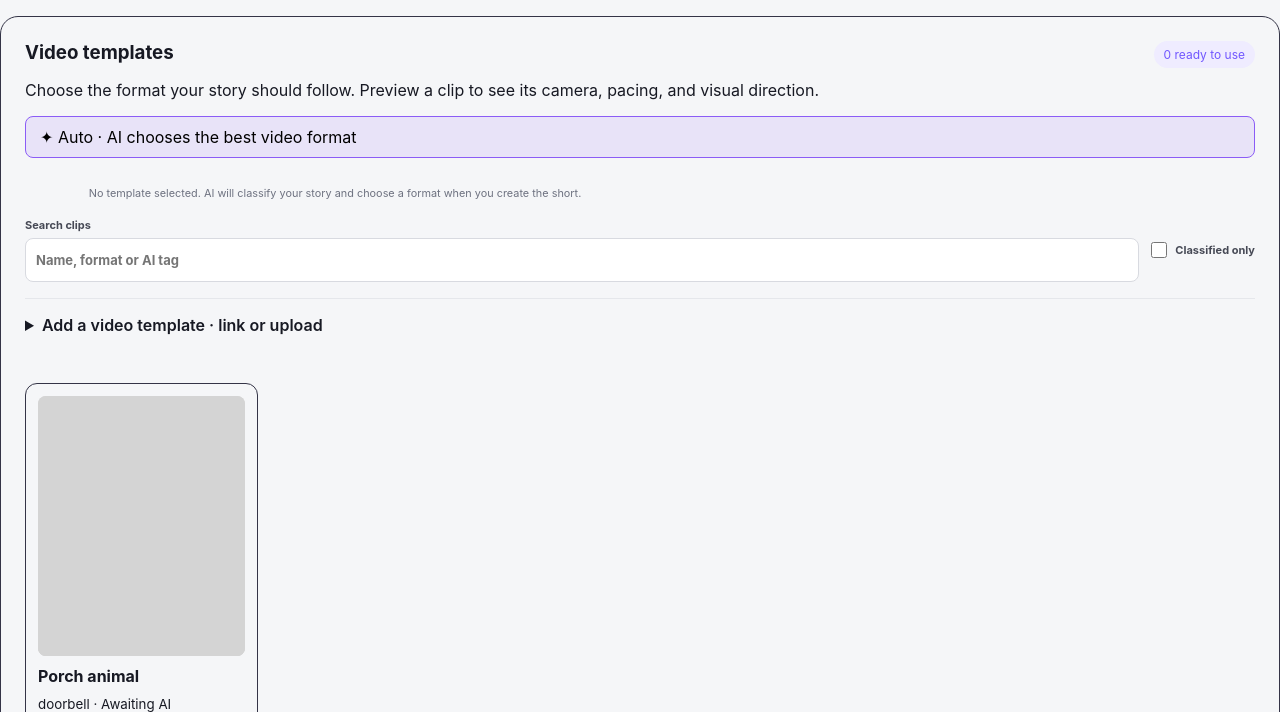
Test: Reference template library › keeps failed classification retryable and filters by source format
Expected: the text "Porch animal" is shown, [38,666,139,686]
Type "doorbell" into the field labelled "Search clips" at x=582, y=260, box [25,238,1139,282]
(page scrolled)
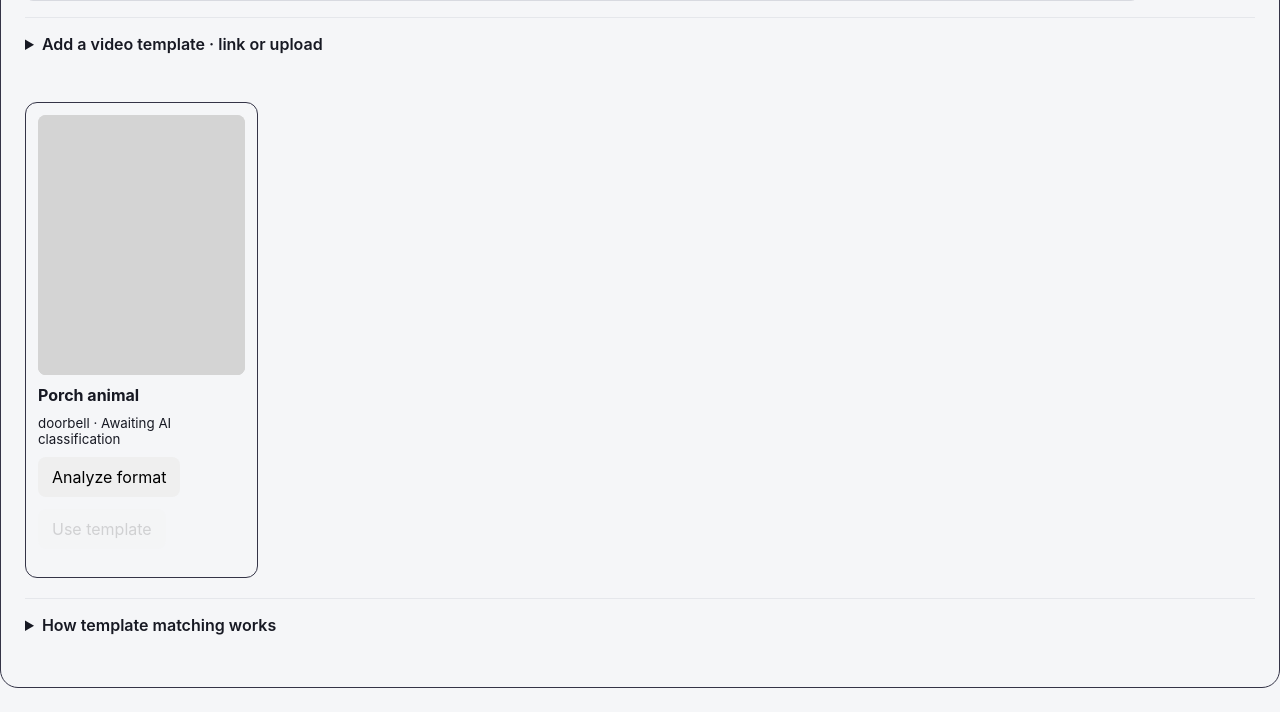
Expected: the text "Porch animal" is shown, [38,385,139,405]
Click the button "Analyze format" at x=109, y=477, box [38,457,180,497]
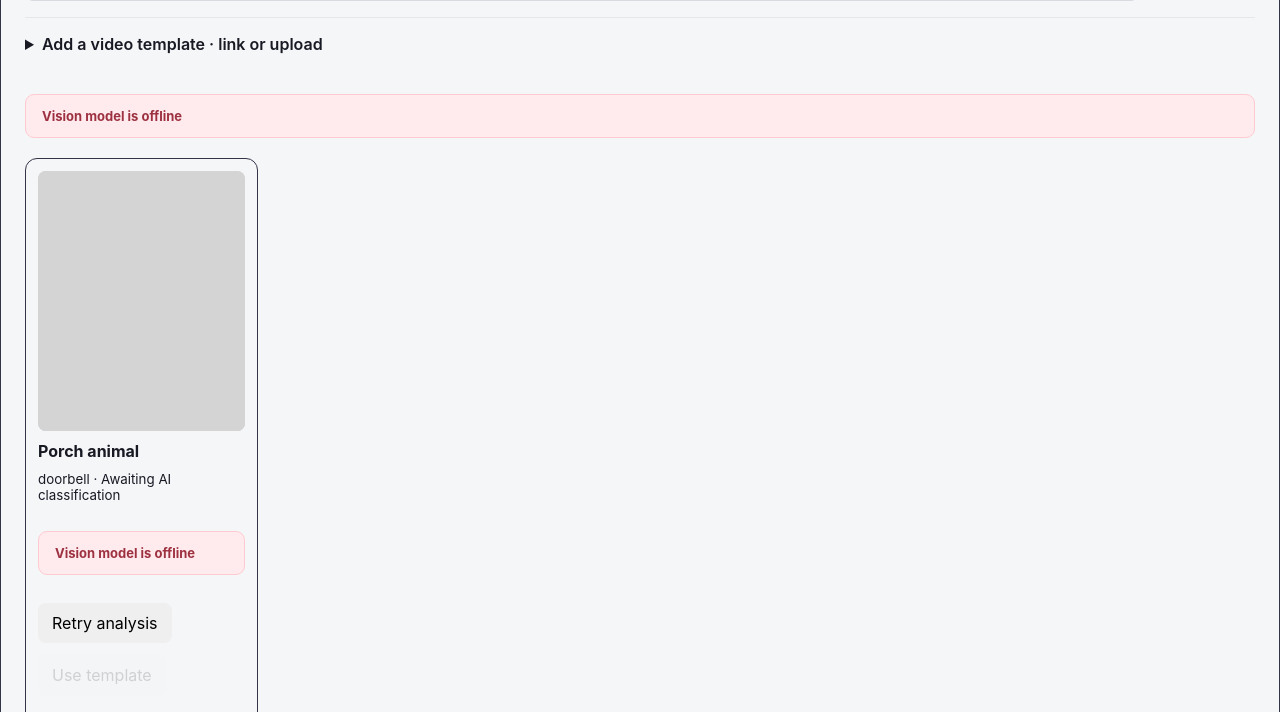
Expected: the button "Use template" is disabled, [38,655,166,695]
Now the message reads "Vision model is offline", box [42,108,182,124]
Now the button "Retry analysis" is shown, box [38,603,172,643]
